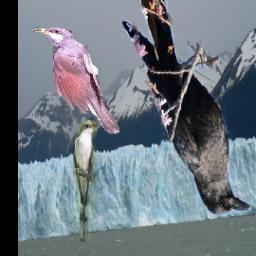Crow: (120, 0, 251, 218)
Cuckoo: (32, 26, 119, 136), (74, 121, 98, 243)
